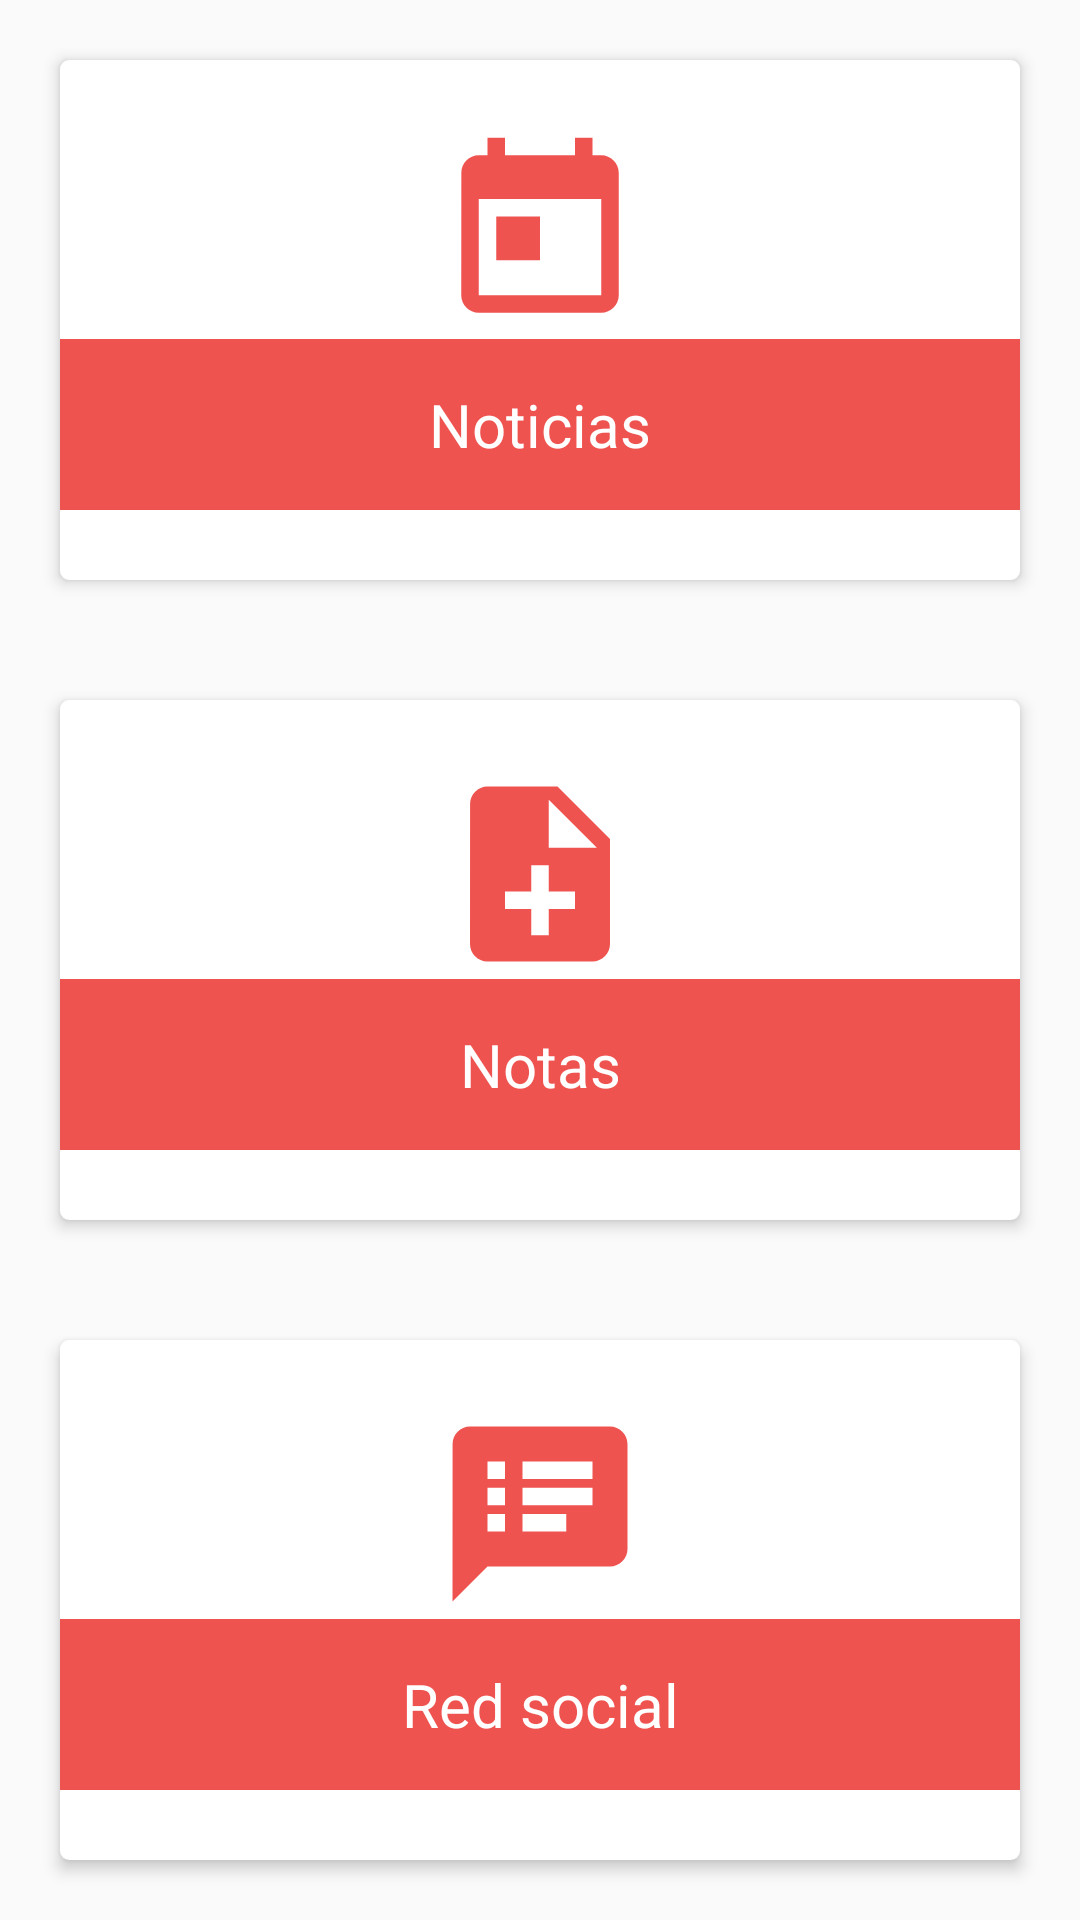

Screen size 1080 x 1920. Icon name, then its box in pixels as {"x1": x1, "y1": y1, "x2": x2, "y2": y2}:
event: {"x1": 461, "y1": 137, "x2": 619, "y2": 313}
